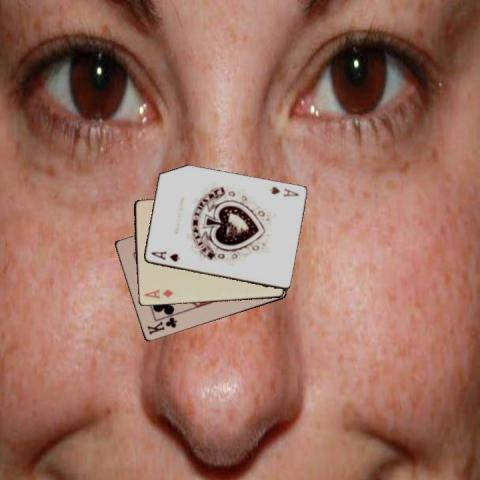Ad: (141, 286, 175, 300)
As: (266, 184, 300, 198), (148, 249, 181, 263)
Kc: (144, 315, 178, 336)
